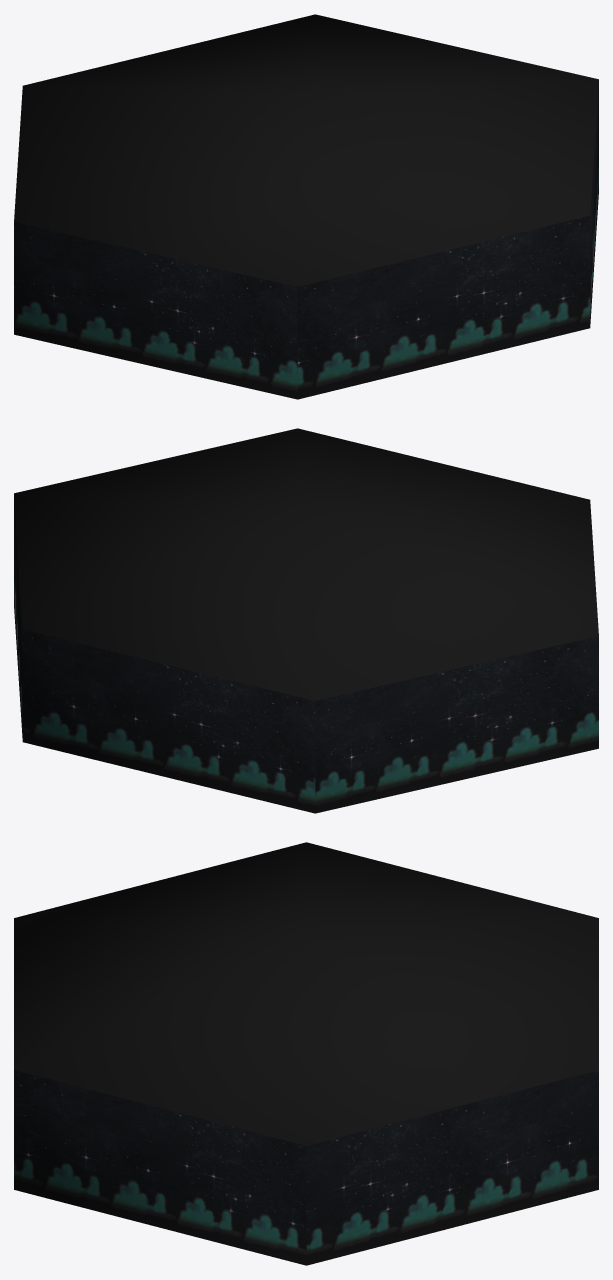
File: skybox_model_night.obj
3 renders of one model, top to bottom at view 1: azimuth 30°, elevation 25°; view 2: azimuth 150°, elevation 25°; view 3: azimuth 270°, elevation 25°, orthographic. The views are drawn at different scales.
Bounding box in the file's own units: 10216 × 2784 × 8316.
